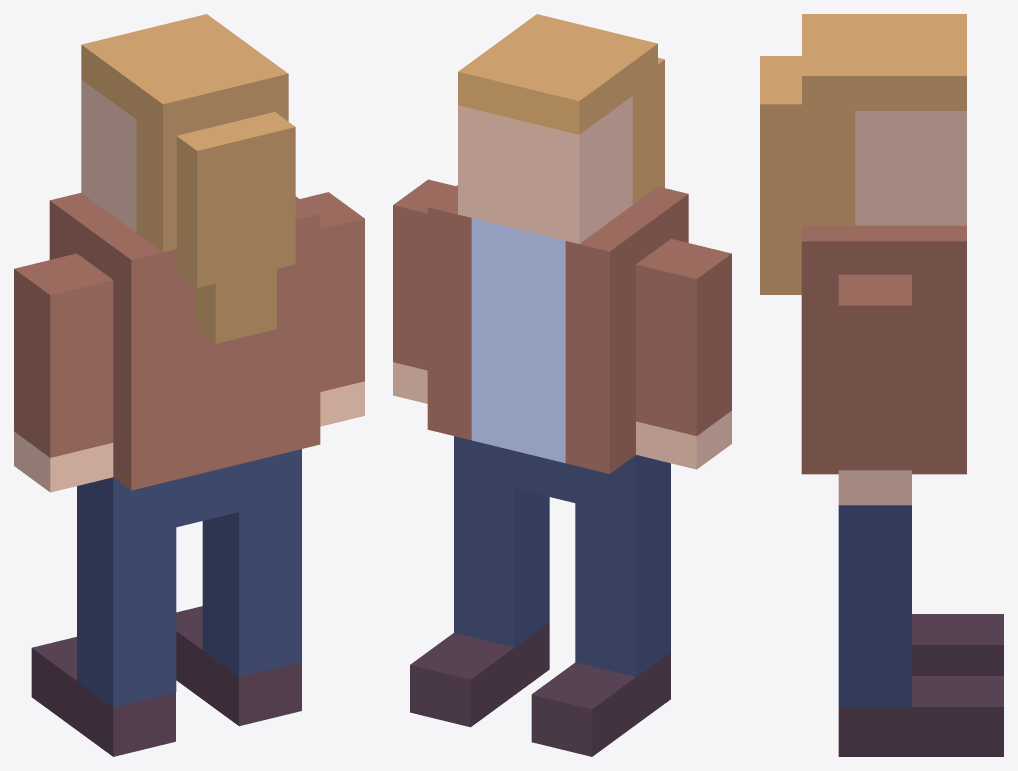
File: new-person-3.1.glb
3 renders of one model, left to right at view 1: azimuth 30°, elevation 25°; view 2: azimuth 150°, elevation 25°; view 3: azimuth 270°, elevation 25°, orthographic. The views are drawn at different scales.
Parts seen in each view (by area): view 1: UNIT.061, UNIT.065, UNIT.064, UNIT.066, UNIT.063, UNIT.062; view 2: UNIT.061, UNIT.065, UNIT.064, UNIT.063, UNIT.062, UNIT.066; view 3: UNIT.061, UNIT.064, UNIT.062, UNIT.066, UNIT.065.
Boxes of the visible parts, x1,y1,x2,y2 form: UNIT.061: [49, 14, 320, 527]; UNIT.065: [31, 477, 176, 756]; UNIT.064: [176, 449, 301, 726]; UNIT.066: [176, 112, 295, 343]; UNIT.063: [14, 253, 113, 492]; UNIT.062: [300, 192, 364, 426]; UNIT.061: [427, 14, 688, 502]; UNIT.065: [531, 455, 670, 756]; UNIT.064: [410, 436, 549, 727]; UNIT.063: [636, 239, 731, 469]; UNIT.062: [393, 179, 455, 403]; UNIT.066: [658, 57, 664, 187]; UNIT.061: [801, 14, 966, 474]; UNIT.064: [838, 505, 1003, 756]; UNIT.062: [838, 274, 911, 505]; UNIT.066: [760, 56, 801, 294]; UNIT.065: [912, 614, 1003, 675].
Size of the model in its own units: 0.7001 by 1.4 by 0.4646.
Materials: 1 (1 with a texture image).
